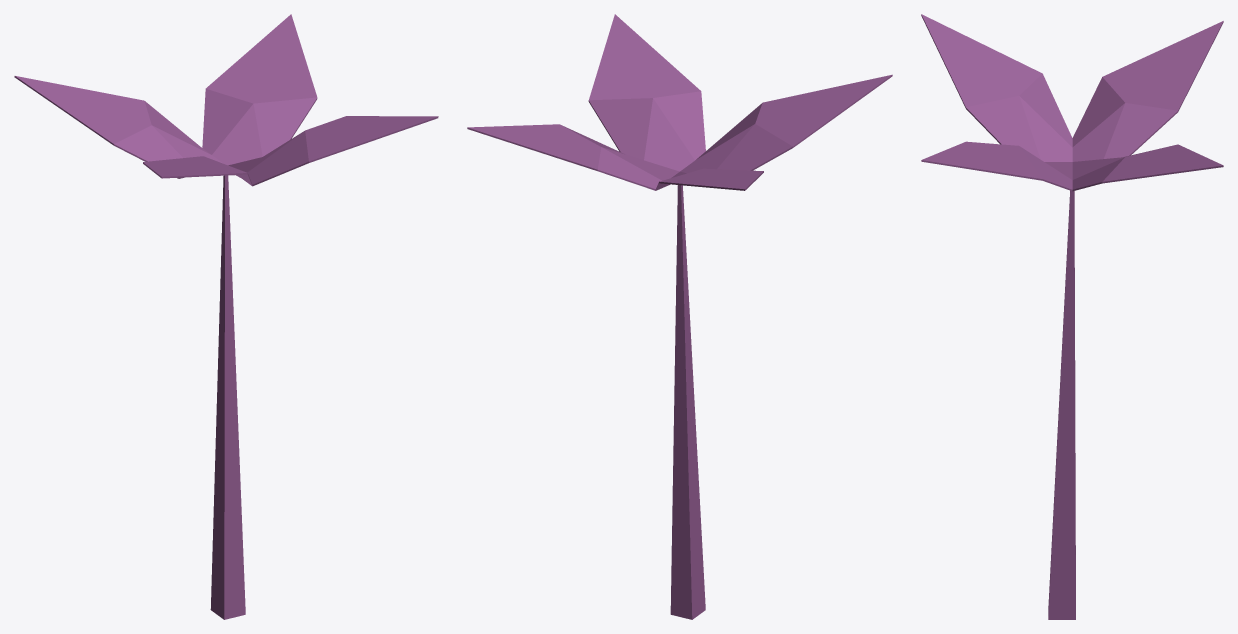
The model's file is kawiat_złączony_v2.fbx.
3 renders of one model, left to right at view 1: azimuth 30°, elevation 25°; view 2: azimuth 150°, elevation 25°; view 3: azimuth 270°, elevation 25°, orthographic. The views are drawn at different scales.
Parts seen in each view (by area): view 1: Łodyga; view 2: Łodyga; view 3: Łodyga.
Boxes of the visible parts, <box> form: Łodyga: <box>14,14,438,619</box>; Łodyga: <box>467,14,892,619</box>; Łodyga: <box>921,14,1223,619</box>.
Bounding box in the file's own units: 17.91 × 32.08 × 16.5.
